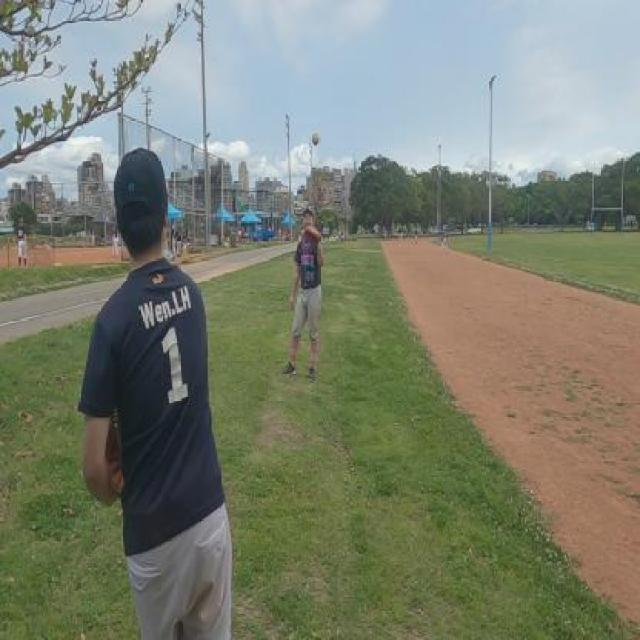sports ball: (311, 132, 321, 144)
